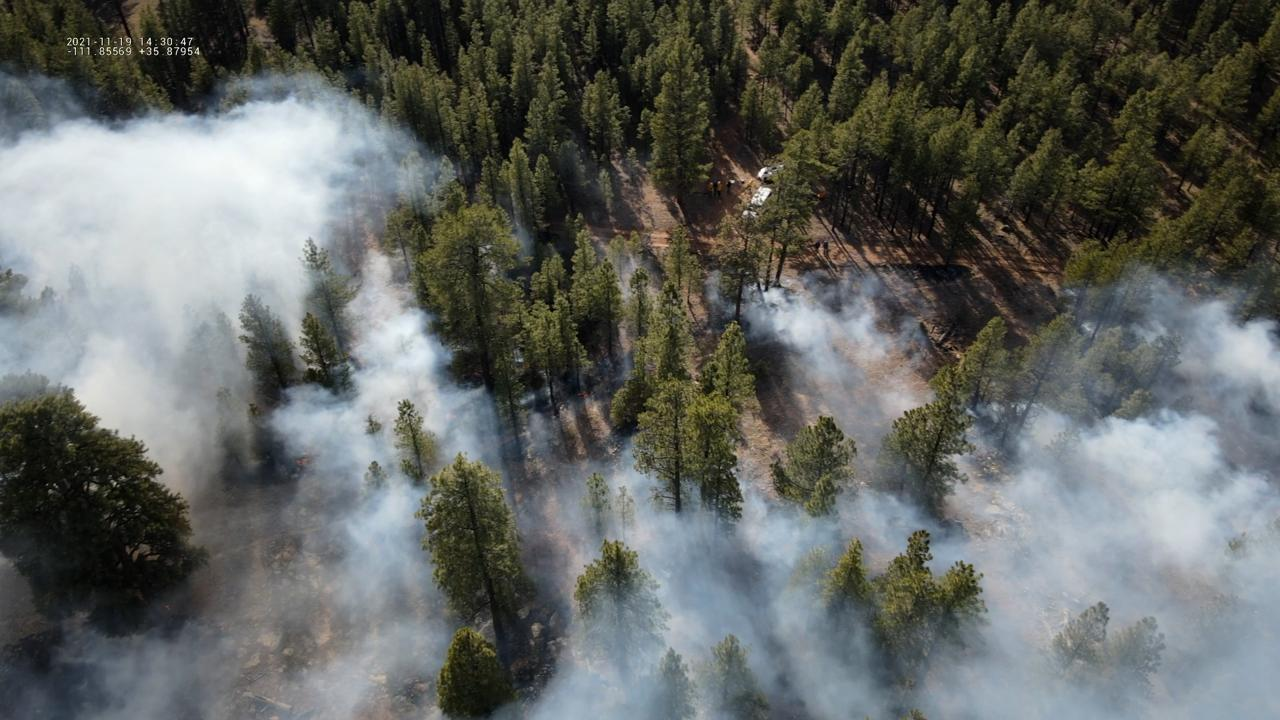fire: (575, 390, 590, 398), (296, 459, 306, 466), (816, 192, 822, 198)
smoke: (0, 61, 1280, 720)
